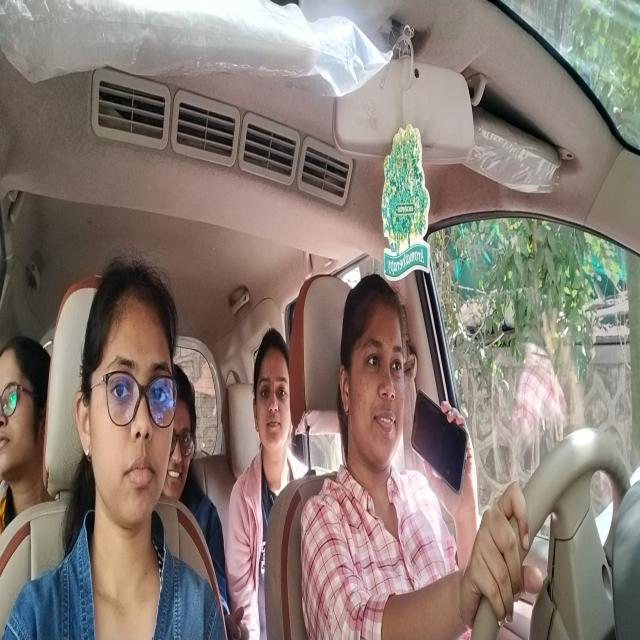mobile: (412, 384, 468, 496)
person: (79, 261, 182, 548), (337, 269, 407, 481), (1, 326, 51, 503), (165, 364, 205, 514), (253, 322, 292, 472)
